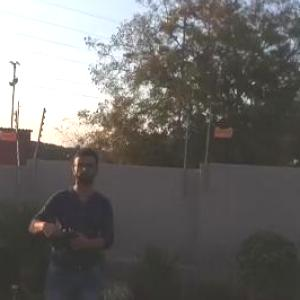follow: (22, 143, 118, 299)
